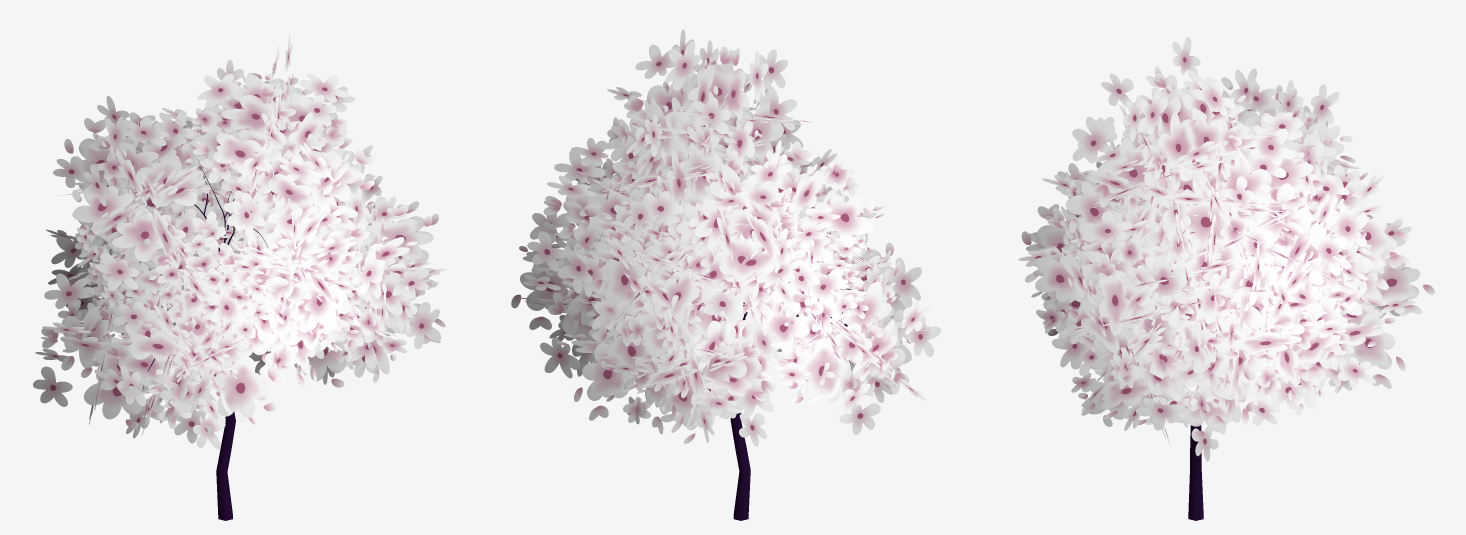
Rendered from Tree3.4_LOD2.fbx.
3 views of the same model, side by side, from view 1: azimuth 30°, elevation 25°; view 2: azimuth 150°, elevation 25°; view 3: azimuth 270°, elevation 25° (orthographic). The views are drawn at different scales.
Parts seen in each view (by area): view 1: Leaves.003, Trunk.003; view 2: Leaves.003, Trunk.003; view 3: Leaves.003, Trunk.003.
Part boxes in pixels (x1=…): Leaves.003: x1=33, y1=34, x2=446, y2=449; Trunk.003: x1=120, y1=159, x2=267, y2=520; Leaves.003: x1=511, y1=29, x2=941, y2=446; Trunk.003: x1=730, y1=150, x2=863, y2=520; Leaves.003: x1=1018, y1=37, x2=1434, y2=461; Trunk.003: x1=1136, y1=267, x2=1203, y2=520.
Bounding box in the file's own units: 785 × 854 × 731.
